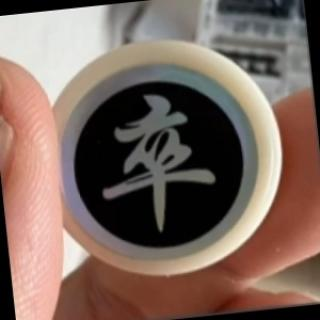qizi: (42, 37, 284, 276)
